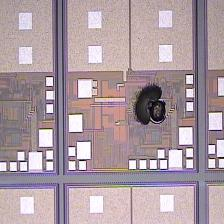PARTICLE: (132, 81, 172, 128)
